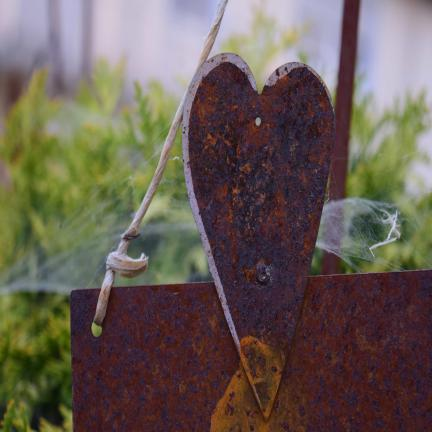karat: (71, 54, 431, 431)
